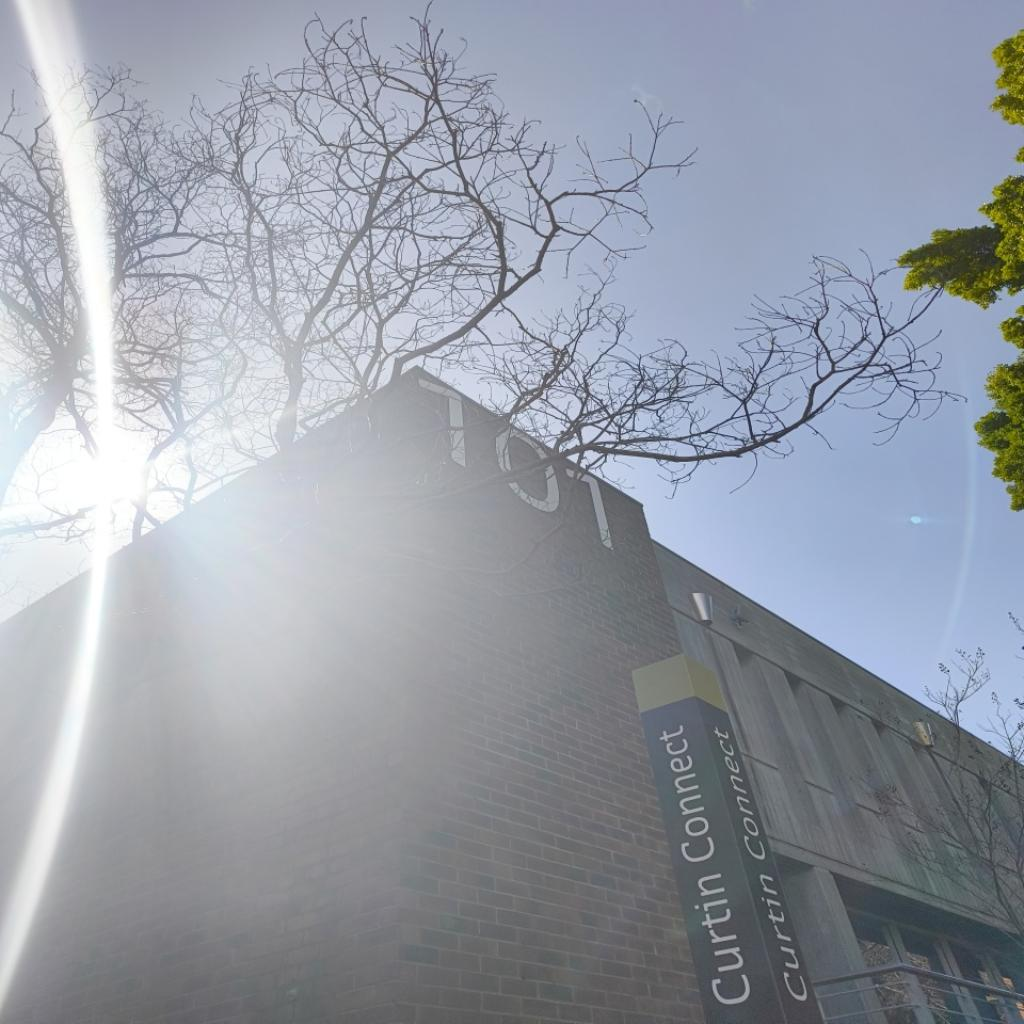BuildingCodes: (410, 370, 622, 554)
